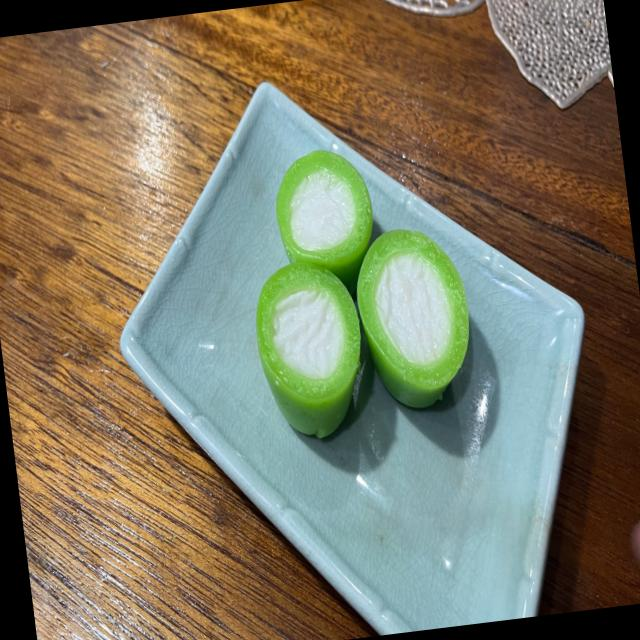nona-manis: (356, 229, 469, 407), (256, 261, 360, 437), (276, 150, 372, 292)
